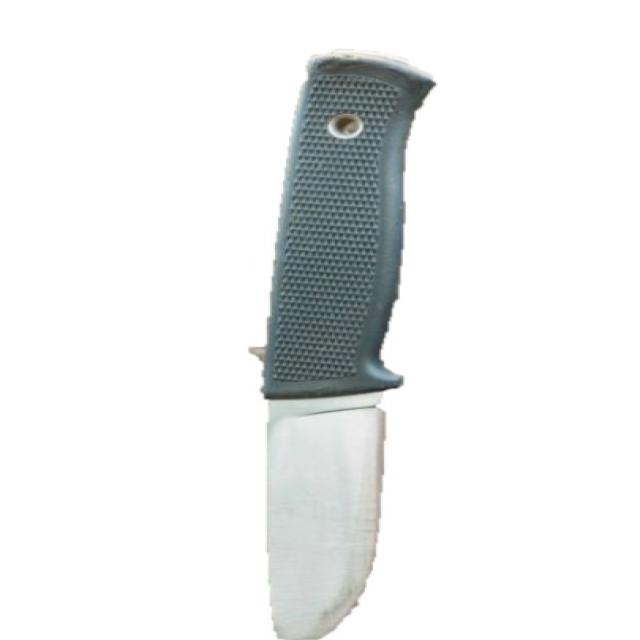knife: (247, 43, 431, 640)
